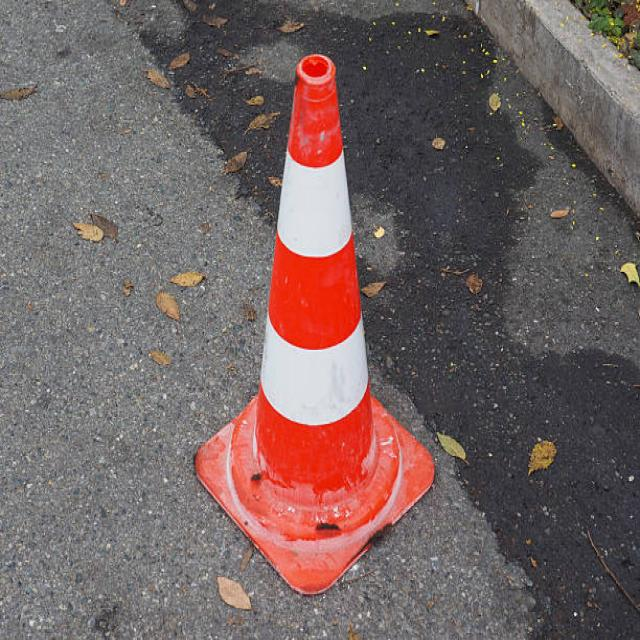Traffic Cone: (187, 21, 456, 610)
